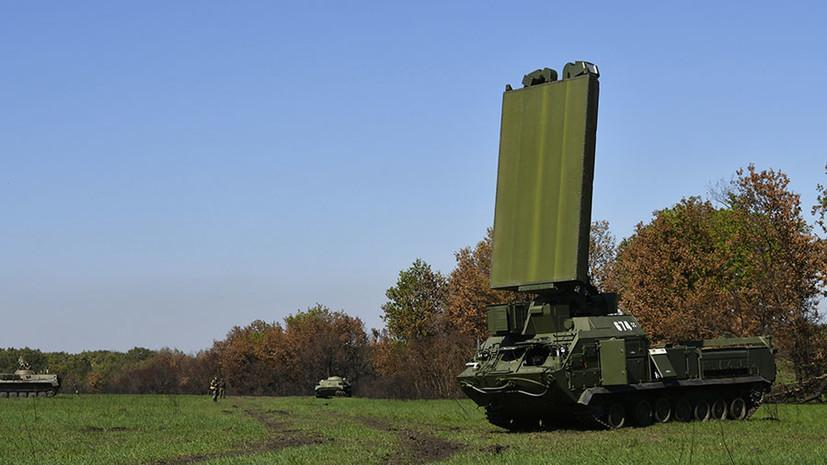person: (208, 375, 219, 402), (219, 376, 229, 402)
tank: (1, 354, 62, 406), (302, 369, 363, 404)
